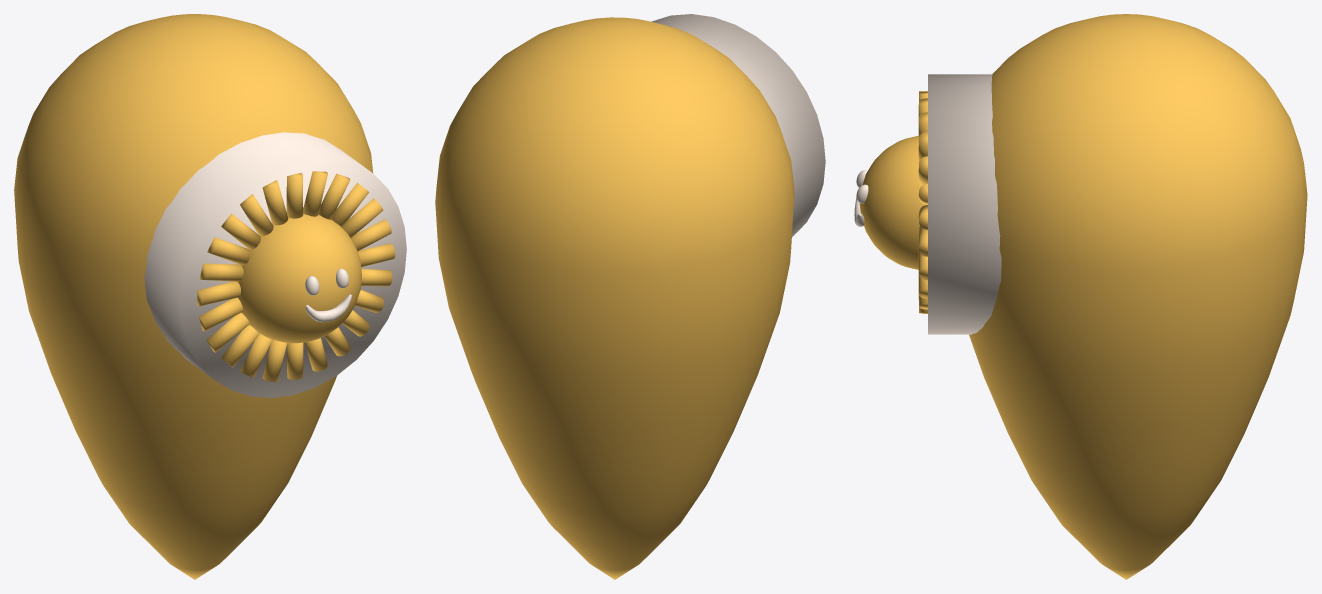
File: zuiderbadPin.glb
3 views of the same model, side by side, from view 1: azimuth 30°, elevation 25°; view 2: azimuth 150°, elevation 25°; view 3: azimuth 270°, elevation 25° (orthographic).
Parts seen in each view (by area): view 1: pin.001, Cylinder.012, Sphere.037, Cylinder.060, Cylinder.077, Cylinder.076, Cylinder.078, Cylinder.058, Cylinder.061, Cylinder.071, Cylinder.075, Cylinder.062 (+13 smaller); view 2: pin.001, Cylinder.012; view 3: pin.001, Cylinder.012, Sphere.037.
Boxes of the visible parts, x1,y1,x2,y2 form: pin.001: [14, 14, 373, 579]; Cylinder.012: [144, 132, 406, 397]; Sphere.037: [237, 213, 361, 343]; Cylinder.060: [303, 171, 327, 216]; Cylinder.077: [199, 297, 243, 331]; Cylinder.076: [197, 281, 240, 306]; Cylinder.078: [206, 312, 249, 352]; Cylinder.058: [286, 172, 303, 218]; Cylinder.061: [318, 173, 350, 219]; Cylinder.071: [262, 180, 288, 225]; Cylinder.075: [199, 263, 243, 281]; Cylinder.062: [331, 182, 368, 227]; pin.001: [435, 17, 794, 579]; Cylinder.012: [651, 14, 825, 236]; pin.001: [969, 14, 1307, 579]; Cylinder.012: [928, 74, 1001, 334]; Sphere.037: [859, 135, 926, 269].
Size of the model in its own units: 0.2435 by 0.4072 by 0.3044.
